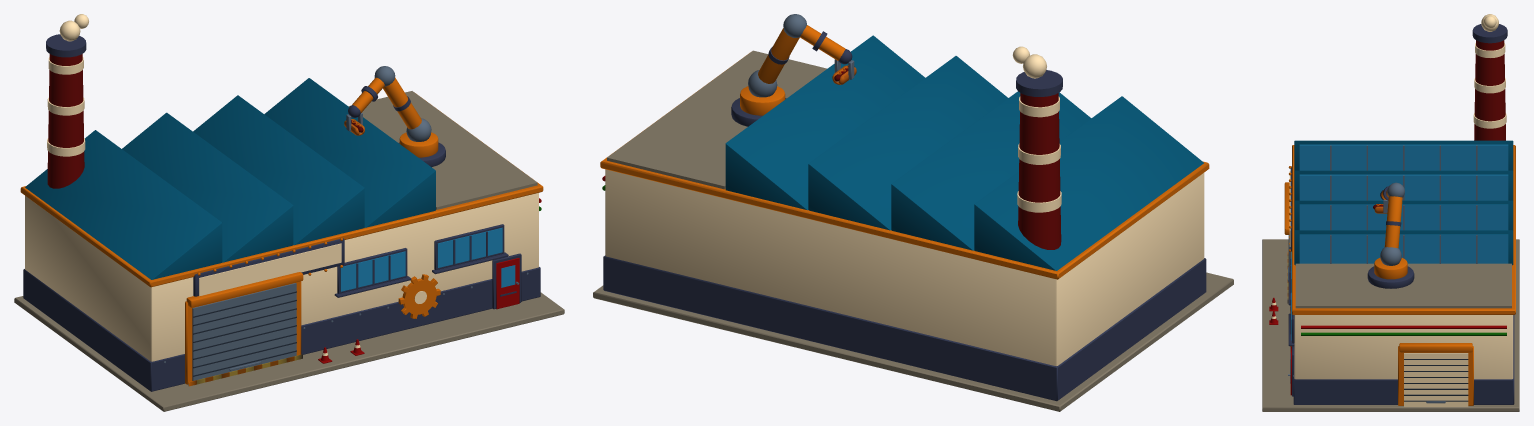
Rendered from RoboticsFactory.obj.
The picture shows the model from 3 angles, left to right: view 1: azimuth 30°, elevation 25°; view 2: azimuth 150°, elevation 25°; view 3: azimuth 270°, elevation 25°; orthographic projection. The views are drawn at different scales.
Parts seen in each view (by area): view 1: RoboticsFactory; view 2: RoboticsFactory; view 3: RoboticsFactory.
Part boxes in pixels (x1,y1,x2,y2): RoboticsFactory: [14, 14, 564, 411]; RoboticsFactory: [593, 14, 1233, 411]; RoboticsFactory: [1262, 14, 1519, 411].
Size of the model in its own units: 31.25 by 21.3 by 20.
